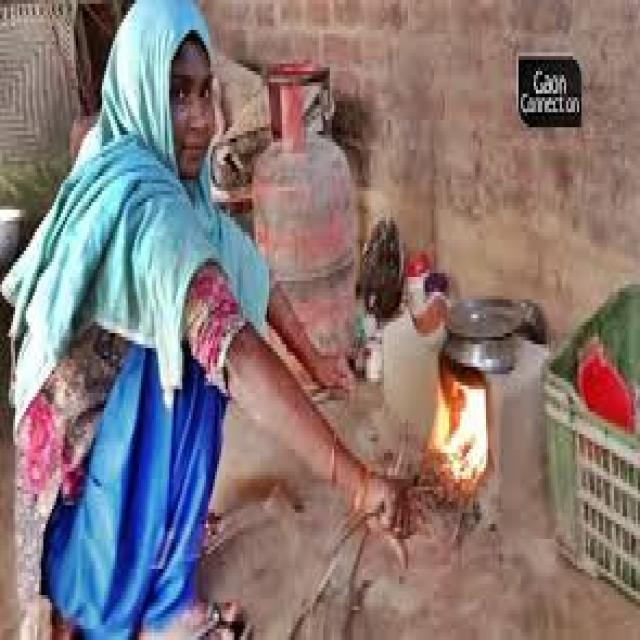fire: (427, 375, 488, 480)
